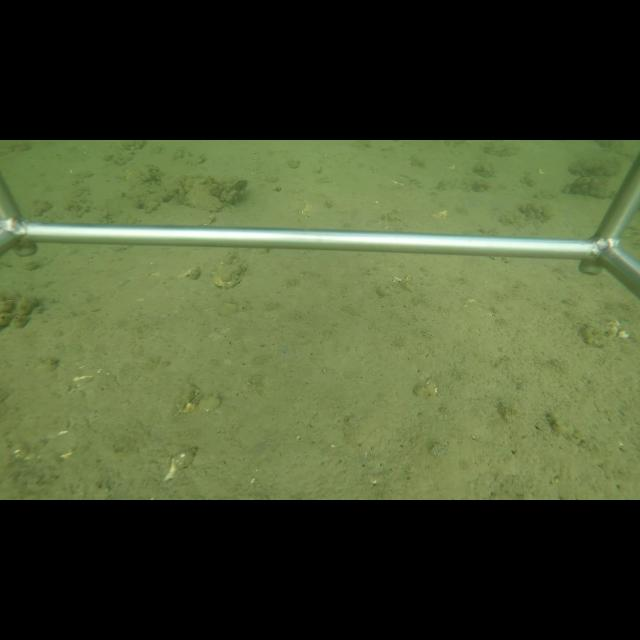Oyster-Closed: (181, 180, 227, 213), (209, 259, 249, 290)
